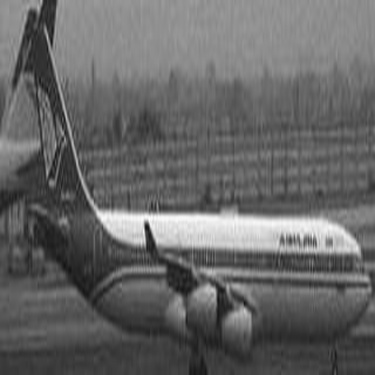airplane: (18, 8, 373, 371), (3, 4, 77, 209), (6, 5, 39, 151)
